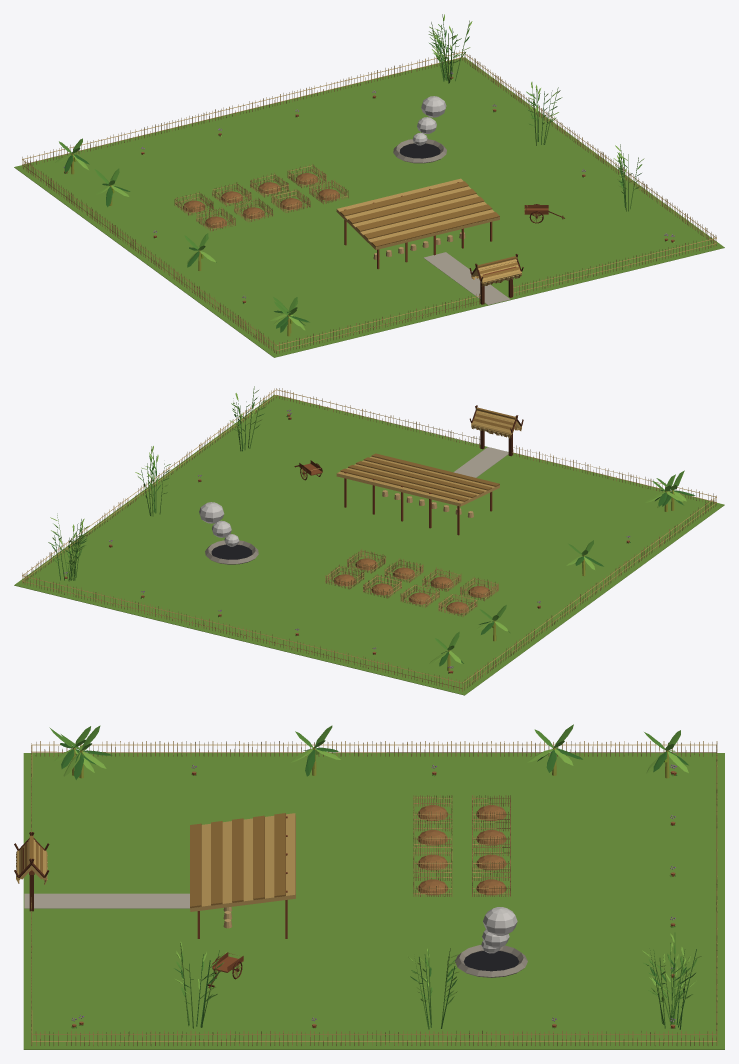
The model's file is waste.glb.
3 renders of one model, top to bottom at view 1: azimuth 30°, elevation 25°; view 2: azimuth 150°, elevation 25°; view 3: azimuth 270°, elevation 25°, orthographic. The views are drawn at different scales.
Parts seen in each view (by area): view 1: body; view 2: body; view 3: body.
Boxes of the visible parts, left/top/right/bottom form: body: left=14, top=14, right=724, bottom=357; body: left=14, top=386, right=724, bottom=695; body: left=14, top=724, right=724, bottom=1049.
Bounding box in the file's own units: 47.9 × 6.52 × 48.56.
